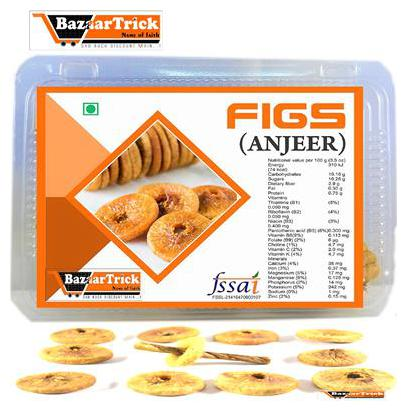fssai: (206, 272, 261, 294)
